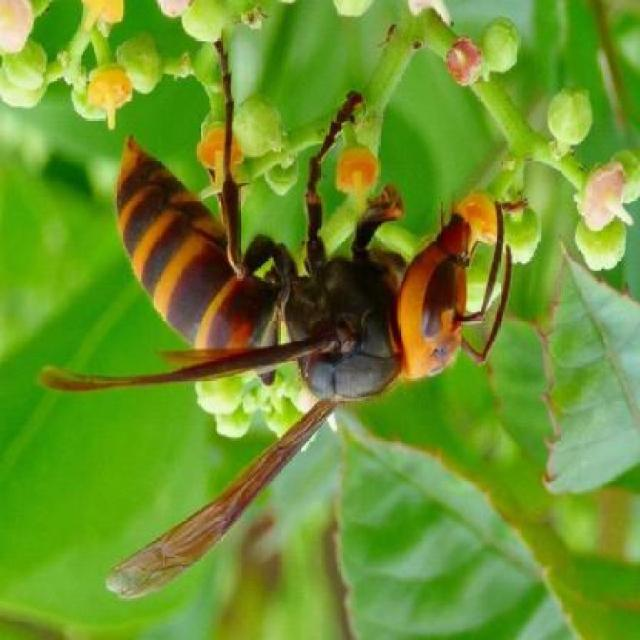Wasp: (49, 25, 522, 607)
